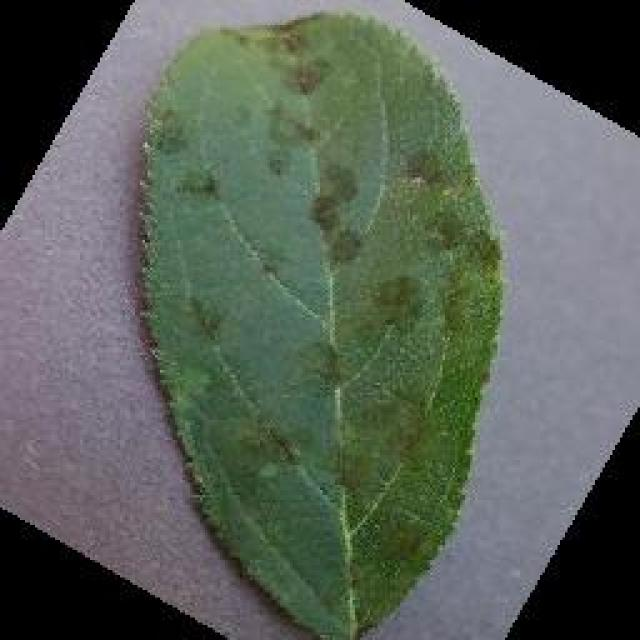apple scab disease: (130, 8, 505, 638)
